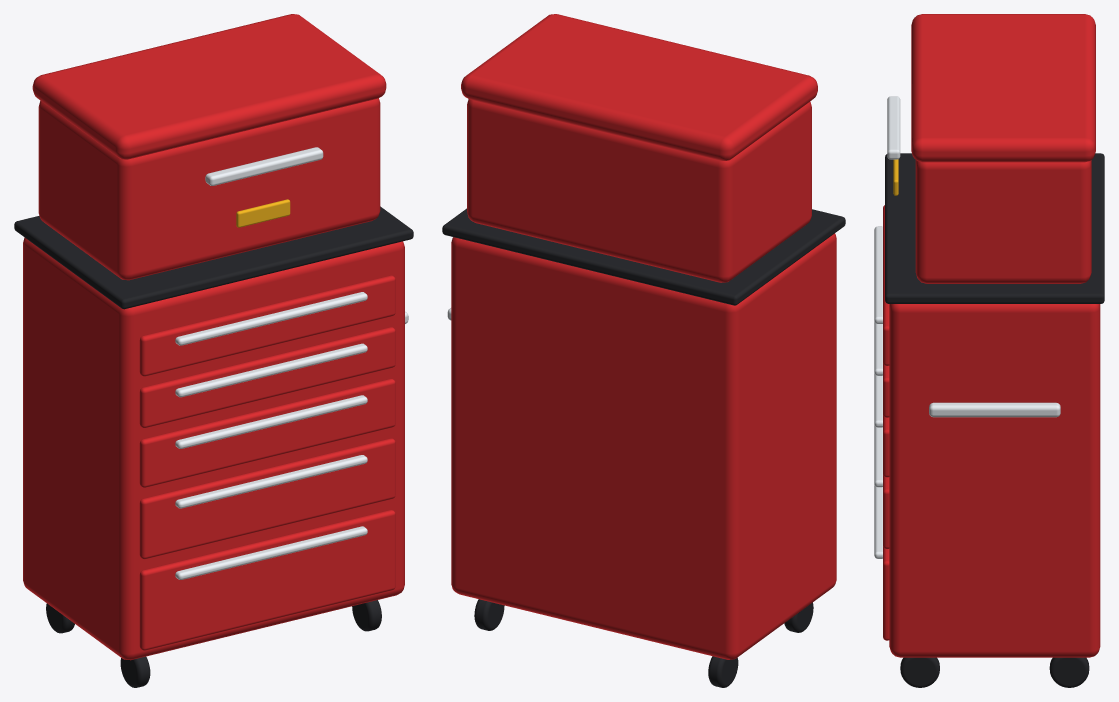
Rendered from toolbox.glb.
3 renders of one model, left to right at view 1: azimuth 30°, elevation 25°; view 2: azimuth 150°, elevation 25°; view 3: azimuth 270°, elevation 25°, orthographic.
Parts seen in each view (by area): view 1: Cabinet, Chest, Lid, Drawer.004, Drawer.003, Mat, Drawer.002, Drawer, Drawer.001, Pull.001, Pull.002, Pull (+6 smaller); view 2: Cabinet, Chest, Lid, Mat, Caster.001, Caster.003; view 3: Cabinet, Lid, Chest, Mat, SideBar, Caster.003, Caster.002, ChestHandle, Pull, Pull.004, Drawer.004, Drawer (+6 smaller).
Boxes of the visible parts, <box> form: Cabinet: <box>23,237,404,660</box>; Chest: <box>38,98,380,280</box>; Lid: <box>32,14,386,159</box>; Drawer.004: <box>139,510,395,650</box>; Drawer.003: <box>139,438,395,559</box>; Mat: <box>14,206,413,309</box>; Drawer.002: <box>139,379,395,487</box>; Drawer: <box>139,275,395,376</box>; Drawer.001: <box>139,327,395,427</box>; Pull.001: <box>175,343,367,397</box>; Pull.002: <box>175,395,367,448</box>; Pull: <box>175,292,367,345</box>; Cabinet: <box>451,233,836,659</box>; Chest: <box>467,99,811,282</box>; Lid: <box>461,14,817,160</box>; Mat: <box>442,208,845,305</box>; Caster.001: <box>708,656,738,687</box>; Caster.003: <box>474,599,504,630</box>; Cabinet: <box>889,304,1100,657</box>; Lid: <box>911,14,1095,162</box>; Chest: <box>915,160,1091,283</box>; Mat: <box>885,153,1104,303</box>; SideBar: <box>929,402,1060,417</box>; Caster.003: <box>1049,657,1089,687</box>; Caster.002: <box>900,657,939,687</box>; ChestHandle: <box>887,96,900,159</box>; Pull: <box>874,226,882,323</box>; Pull.004: <box>874,484,882,558</box>; Drawer.004: <box>883,546,889,640</box>; Drawer: <box>883,205,889,365</box>.
Bounding box in the file's own units: 0.815 × 1.39 × 0.5245.
